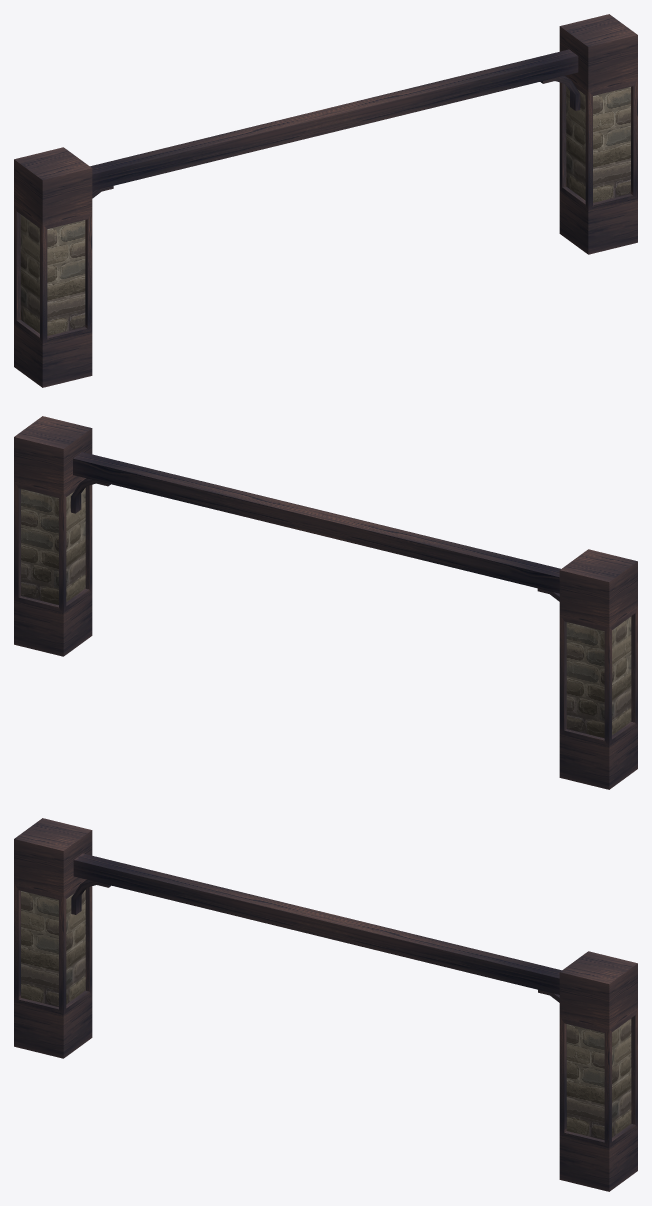
Rendered from Pillar_x3_End.fbx.
3 views of the same model, one above another, from view 1: azimuth 30°, elevation 25°; view 2: azimuth 150°, elevation 25°; view 3: azimuth 330°, elevation 25° (orthographic).
Visible parts, largest first — view 1: Pillar_x3_End; view 2: Pillar_x3_End; view 3: Pillar_x3_End.
Boxes of the visible parts, x1,y1,x2,y2 form: Pillar_x3_End: [14, 14, 637, 387]; Pillar_x3_End: [14, 416, 637, 789]; Pillar_x3_End: [14, 818, 637, 1191].
Bounding box in the file's own units: 1.88 × 0.6265 × 0.1567.
